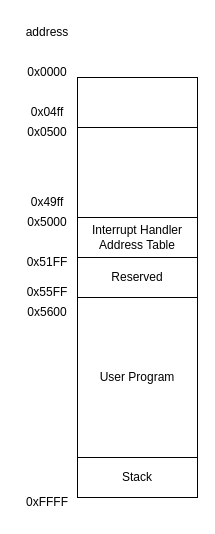
Some shapes in this 215 by 534 pixel diagram are drawn without their labels. Here are the shapes that lost their labels. From the top down, the centre of each, then its label:
At point (137, 102): "BIOS".
At point (137, 172): "OS".
